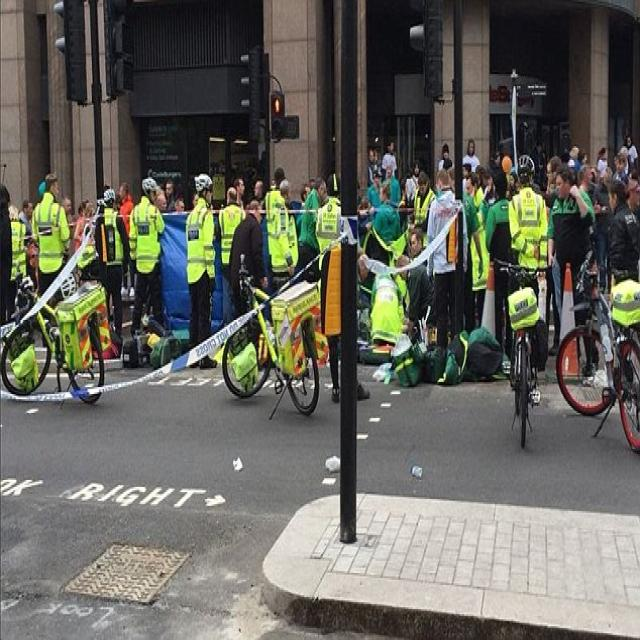10-: (0, 91, 639, 418)
